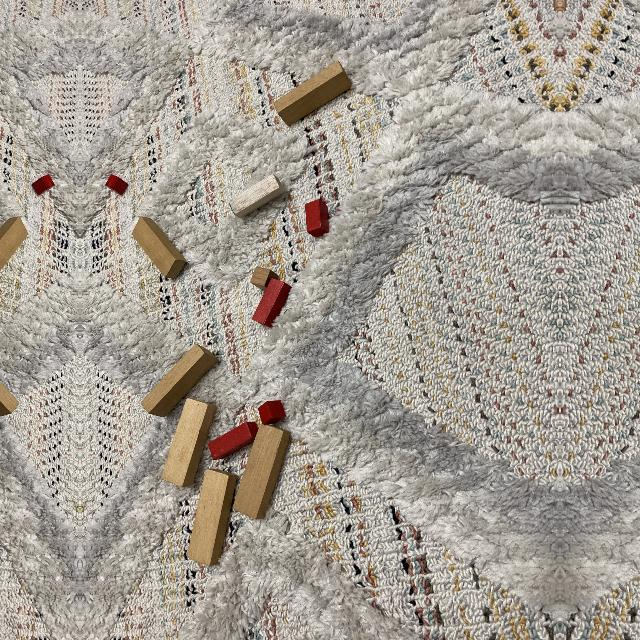block: (229, 174, 284, 218)
cube: (250, 266, 278, 290)
jenga: (141, 344, 218, 417), (233, 423, 291, 519), (274, 61, 351, 127), (161, 398, 217, 487), (187, 468, 237, 566), (132, 217, 185, 279), (0, 217, 28, 272)
red block: (251, 278, 292, 328), (208, 421, 258, 460), (305, 199, 329, 237)
red cube: (258, 400, 286, 425), (105, 174, 128, 195), (32, 174, 55, 195)
